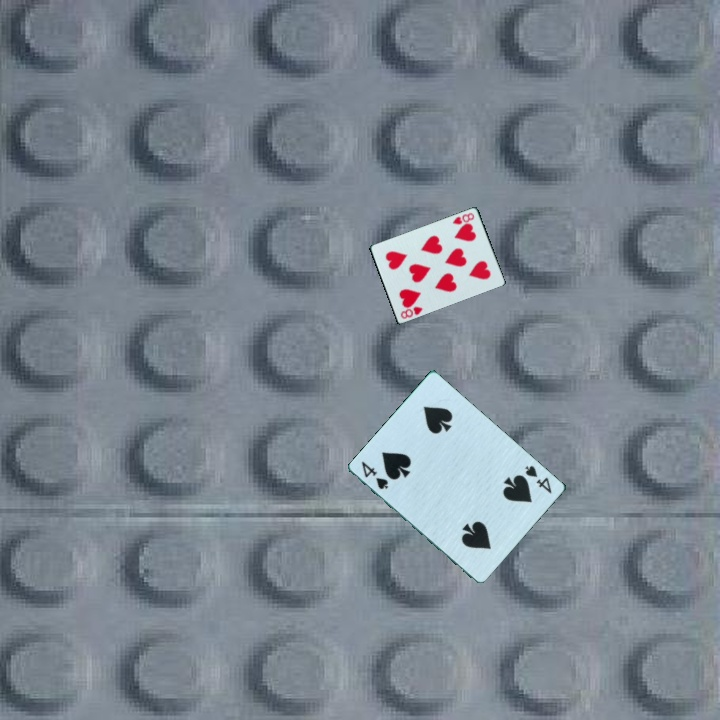4s: (358, 458, 392, 492), (522, 462, 555, 497)
8h: (397, 303, 426, 321), (449, 209, 477, 227)
